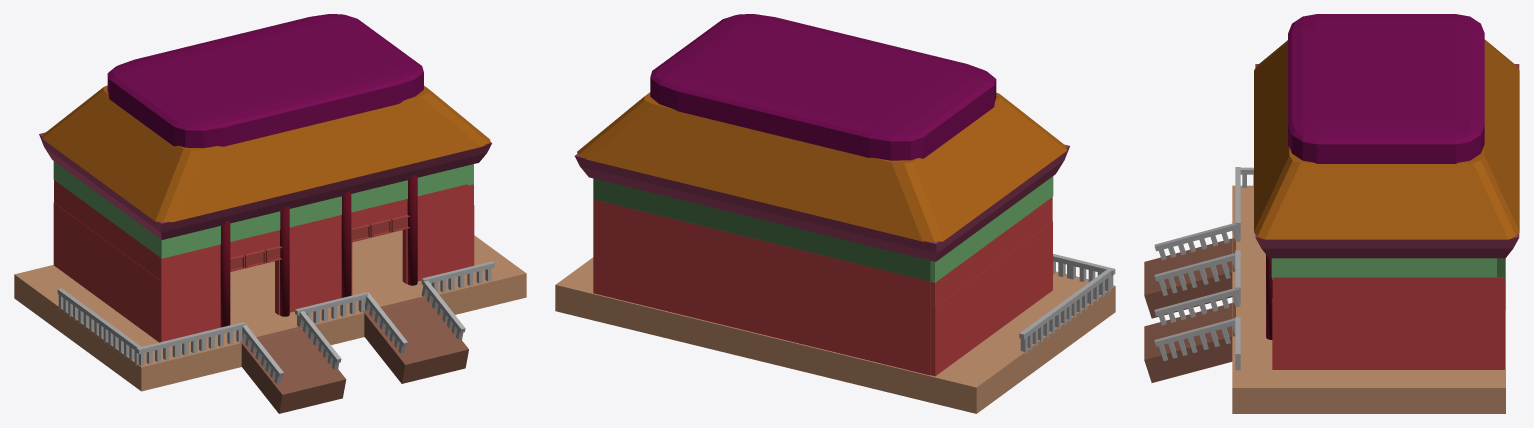
Rendered from temple.glb.
3 views of the same model, side by side, from view 1: azimuth 30°, elevation 25°; view 2: azimuth 150°, elevation 25°; view 3: azimuth 270°, elevation 25° (orthographic). The views are drawn at different scales.
Parts seen in each view (by area): view 1: Cube.006, Cube.007, CSGBox3D2, CSGBox3D32, Cube.015, Cube.009, Cube.002, CSGBox3D23.003, CSGBox3D23.002, CSGBox3D62, CSGBox3D52, CSGBox3D72 (+19 smaller); view 2: Cube.006, Cube.007, CSGBox3D23, CSGBox3D2, CSGBox3D23.004, CSGBox3D32, Cube.015, CSGBox3D23.001, CSGBox3D23.008, CSGBox3D23.010, Cube.014, Cube.013 (+1 smaller); view 3: Cube.007, Cube.006, CSGBox3D2, CSGBox3D42, CSGBox3D23.007, Cube.015, CSGBox3D23.009, Cube.009, Cube.002, Cube.011, Cube, Cube.010 (+2 smaller).
Part boxes in pixels (x1=…): Cube.006: x1=42, y1=85, x2=490, y2=222; Cube.007: x1=107, y1=14, x2=423, y2=147; CSGBox3D2: x1=14, y1=230, x2=526, y2=391; CSGBox3D32: x1=53, y1=202, x2=167, y2=342; Cube.015: x1=39, y1=132, x2=491, y2=239; Cube.009: x1=363, y1=296, x2=468, y2=383; Cube.002: x1=240, y1=326, x2=346, y2=413; CSGBox3D23.003: x1=166, y1=184, x2=468, y2=279; CSGBox3D23.002: x1=166, y1=164, x2=473, y2=257; CSGBox3D62: x1=275, y1=237, x2=352, y2=315; CSGBox3D52: x1=402, y1=206, x2=467, y2=283; CSGBox3D72: x1=168, y1=266, x2=220, y2=340; Cube.006: x1=577, y1=92, x2=1067, y2=242; Cube.007: x1=650, y1=14, x2=996, y2=160; CSGBox3D23: x1=593, y1=233, x2=930, y2=375; CSGBox3D2: x1=555, y1=257, x2=1115, y2=413; CSGBox3D23.004: x1=593, y1=199, x2=930, y2=315; CSGBox3D32: x1=930, y1=221, x2=1052, y2=376; Cube.015: x1=574, y1=144, x2=1069, y2=261; CSGBox3D23.001: x1=593, y1=178, x2=930, y2=283; CSGBox3D23.008: x1=930, y1=197, x2=1052, y2=307; CSGBox3D23.010: x1=930, y1=176, x2=1053, y2=282; Cube.014: x1=1019, y1=301, x2=1068, y2=354; Cube.013: x1=1064, y1=269, x2=1111, y2=321; Cube.007: x1=1288, y1=14, x2=1484, y2=163; Cube.006: x1=1254, y1=39, x2=1519, y2=239; CSGBox3D2: x1=1232, y1=185, x2=1505, y2=413; CSGBox3D42: x1=1272, y1=299, x2=1504, y2=369; CSGBox3D23.007: x1=1272, y1=277, x2=1504, y2=302; Cube.015: x1=1255, y1=64, x2=1519, y2=258; CSGBox3D23.009: x1=1272, y1=258, x2=1496, y2=279; Cube.009: x1=1144, y1=302, x2=1235, y2=382; Cube.002: x1=1144, y1=238, x2=1235, y2=318; Cube.011: x1=1154, y1=318, x2=1235, y2=360; Cube: x1=1154, y1=253, x2=1235, y2=295; Cube.010: x1=1154, y1=288, x2=1240, y2=325.
Bounding box in the file's own units: 35.11 × 21.09 × 27.47.
